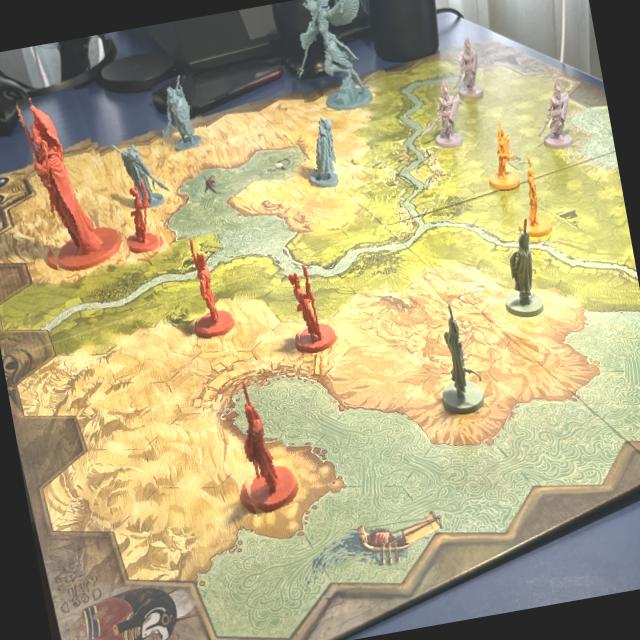amon: (8, 83, 126, 280)
amon_follower: (213, 375, 301, 519), (178, 232, 238, 340), (280, 260, 338, 356), (116, 172, 168, 255)
isis: (281, 0, 391, 122)
isis_follower: (284, 98, 358, 193), (106, 126, 174, 212), (150, 73, 208, 154)
